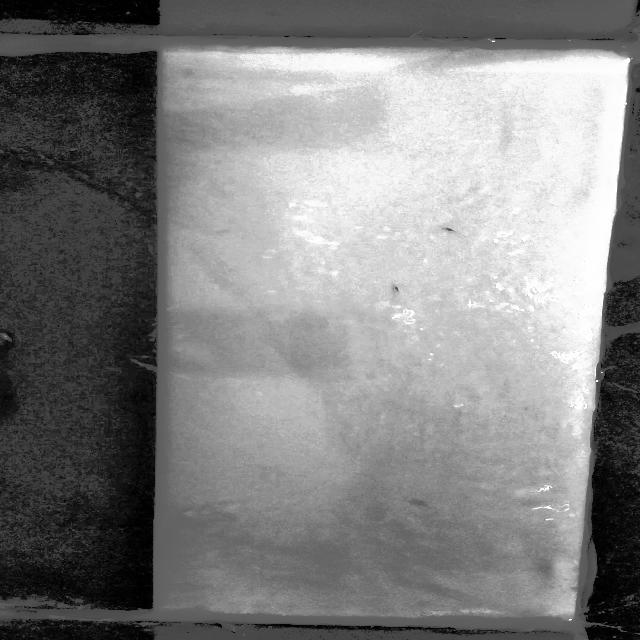shrimp: (404, 497, 442, 513), (386, 281, 406, 300), (439, 224, 464, 236)
